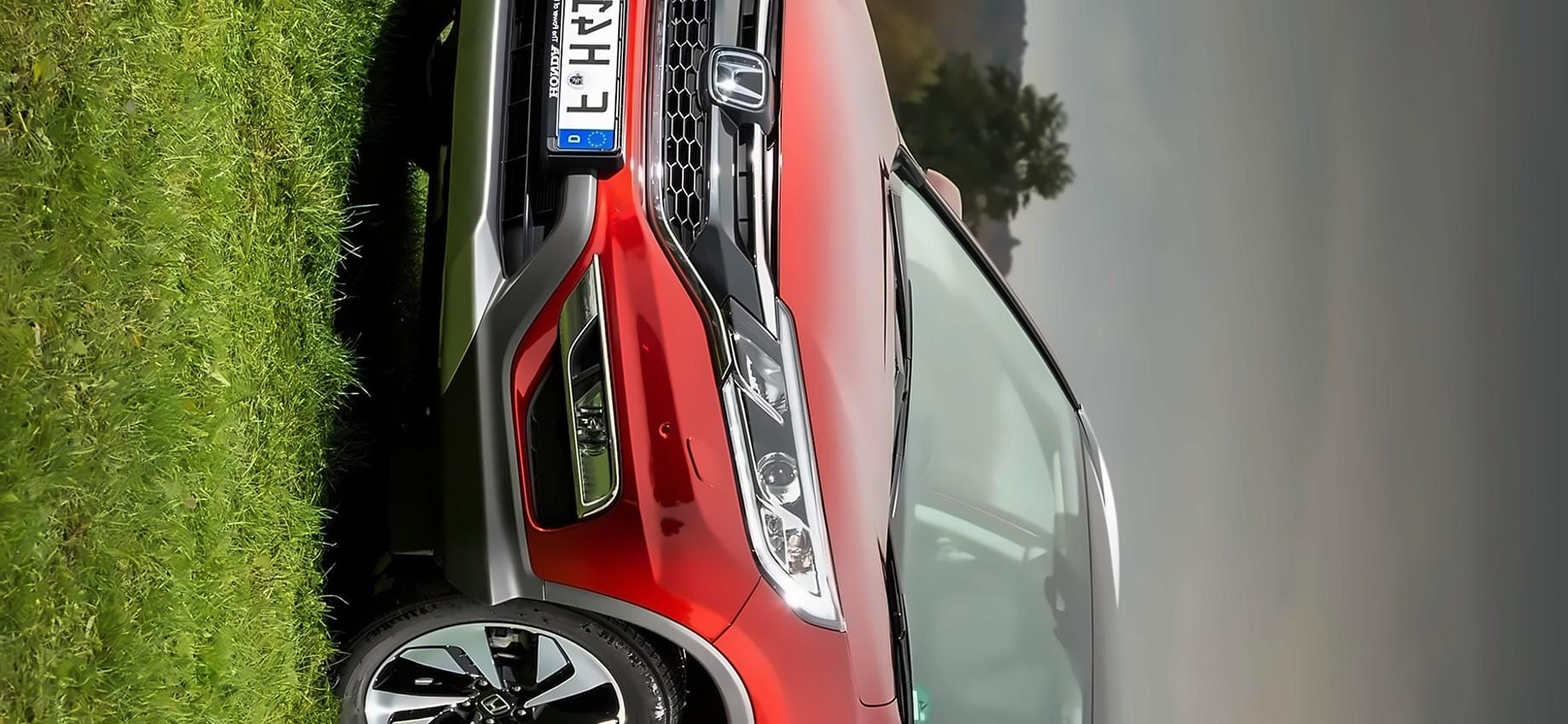Car hood: (774, 0, 938, 709)
Fender - -F-L-: (682, 565, 901, 724)
Front bumper: (398, 0, 771, 656)
Headlight - -L-: (690, 269, 864, 647)
Side mirror - -R-: (901, 141, 979, 248)
